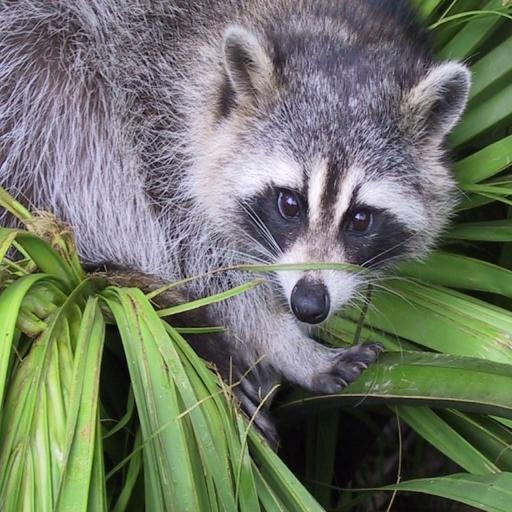raccoon: (0, 0, 469, 297)
